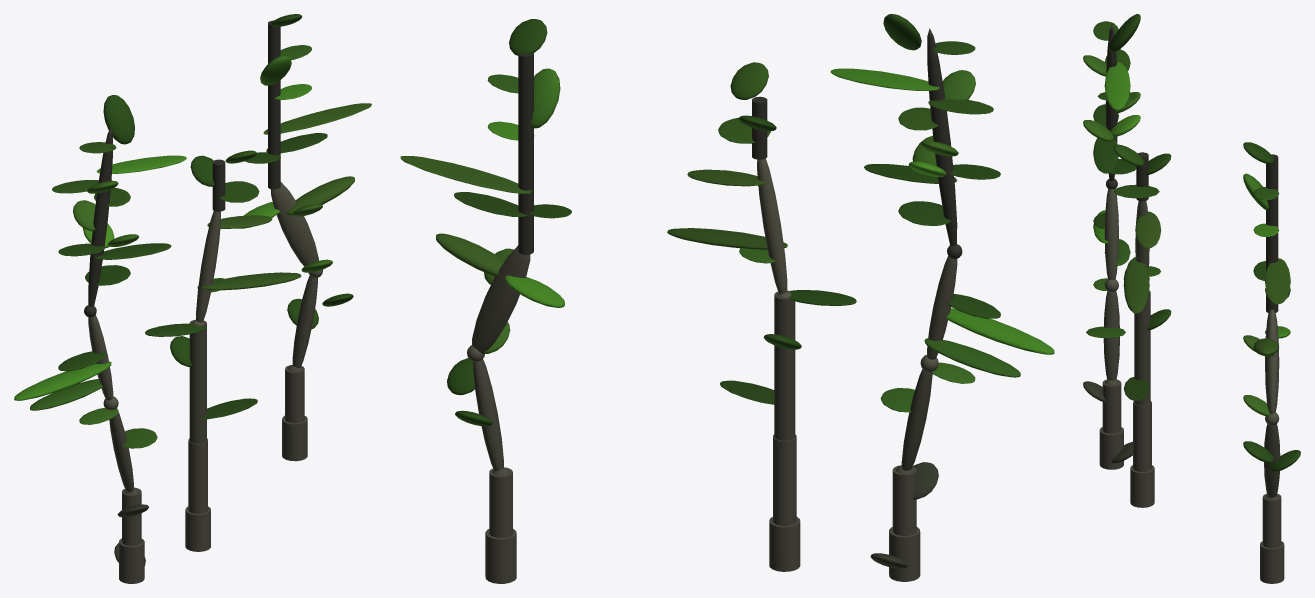
The model's file is CMU3DRMCBushh2.glb.
The picture shows the model from 3 angles, left to right: view 1: azimuth 30°, elevation 25°; view 2: azimuth 150°, elevation 25°; view 3: azimuth 270°, elevation 25°; orthographic projection. The views are drawn at different scales.
Parts seen in each view (by area): view 1: visible stem 1 section 1, visible stem 0 section 3, visible stem 2 section 2, visible stem 2 section 3, visible stem 1 section 0, visible stem 1 section 2, source leaf patch 28, visible stem 2 section 1, source leaf patch 1, source leaf patch 13, source leaf patch 30, visible stem 2 section 0 (+23 smaller); view 2: visible stem 2 section 3, visible stem 1 section 1, visible stem 2 section 2, visible stem 0 section 3, visible stem 1 section 2, visible stem 1 section 0, source leaf patch 28, visible stem 2 section 1, source leaf patch 13, visible stem 0 section 1, visible stem 0 section 0, visible stem 2 section 0 (+20 smaller); view 3: visible stem 1 section 1, visible stem 1 section 0, visible stem 2 section 3, visible stem 0 section 1, visible stem 0 section 2, source leaf patch 30, visible stem 2 section 2, visible stem 2 section 0, visible stem 0 section 0, source leaf patch 7, source leaf patch 13, rounded root base 2 (+25 smaller).
Part boxes in pixels (box(x1,y1,x2,y2)): visible stem 1 section 1: box(189, 319, 206, 443); visible stem 0 section 3: box(88, 127, 112, 306); visible stem 2 section 2: box(270, 182, 318, 266); visible stem 2 section 3: box(268, 20, 280, 189); visible stem 1 section 0: box(188, 438, 207, 513); visible stem 1 section 2: box(196, 211, 220, 322); source leaf patch 28: box(14, 361, 111, 400); visible stem 2 section 1: box(292, 275, 317, 367); source leaf patch 1: box(103, 95, 134, 144); source leaf patch 13: box(263, 103, 371, 134); source leaf patch 30: box(202, 272, 301, 290); visible stem 2 section 0: box(285, 365, 304, 423); visible stem 2 section 3: box(518, 53, 533, 254); visible stem 1 section 1: box(774, 290, 795, 440); visible stem 2 section 2: box(472, 245, 530, 354); visible stem 0 section 3: box(927, 28, 957, 245); visible stem 1 section 2: box(757, 158, 787, 294); visible stem 1 section 0: box(773, 434, 796, 525); source leaf patch 28: box(946, 308, 1054, 354); visible stem 2 section 1: box(473, 359, 503, 471); source leaf patch 13: box(400, 156, 531, 193); visible stem 0 section 1: box(901, 369, 932, 470); visible stem 0 section 0: box(892, 465, 916, 535); visible stem 2 section 0: box(489, 467, 512, 537); visible stem 1 section 1: box(1134, 290, 1150, 405); visible stem 1 section 0: box(1133, 401, 1151, 471); visible stem 2 section 3: box(1266, 154, 1278, 312); visible stem 0 section 1: box(1103, 291, 1119, 380); visible stem 0 section 2: box(1104, 189, 1118, 279); source leaf patch 30: box(1123, 257, 1149, 313); visible stem 2 section 2: box(1265, 309, 1279, 414); visible stem 2 section 0: box(1262, 493, 1281, 547); visible stem 0 section 0: box(1102, 379, 1121, 433); source leaf patch 7: box(1104, 62, 1130, 109); source leaf patch 13: box(1265, 258, 1290, 304); rounded root base 2: box(1260, 541, 1284, 583).
Bounding box in the file's own units: 0.6777 × 0.6851 × 0.3024.
